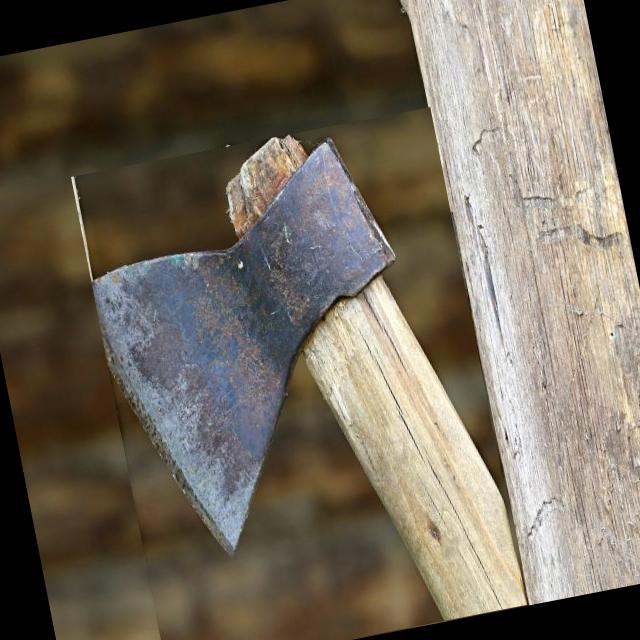Axe: (95, 137, 527, 621)
